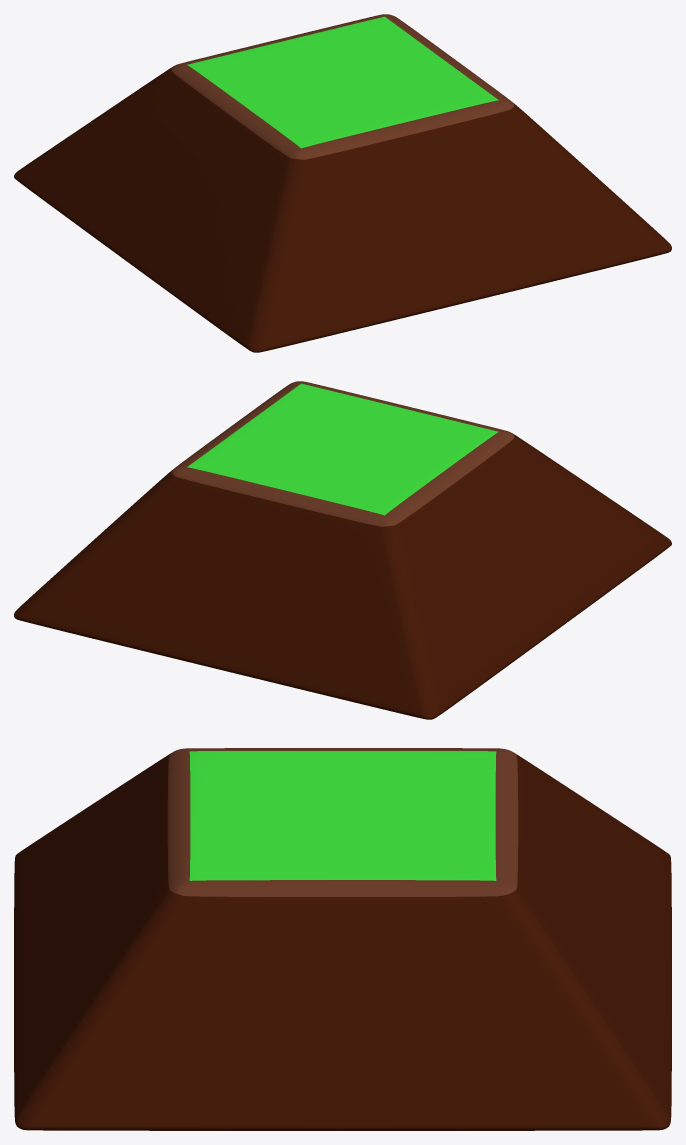
File: GroundLevel.fbx
The picture shows the model from 3 angles, top to bottom: view 1: azimuth 30°, elevation 25°; view 2: azimuth 150°, elevation 25°; view 3: azimuth 270°, elevation 25°; orthographic projection. The views are drawn at different scales.
Visible parts, largest first — view 1: Cube; view 2: Cube; view 3: Cube.
Boxes of the visible parts, x1=… form: Cube: x1=14, y1=14, x2=671, y2=352; Cube: x1=14, y1=381, x2=671, y2=719; Cube: x1=14, y1=748, x2=671, y2=1130.
Size of the model in its own units: 663 by 200 by 663.
